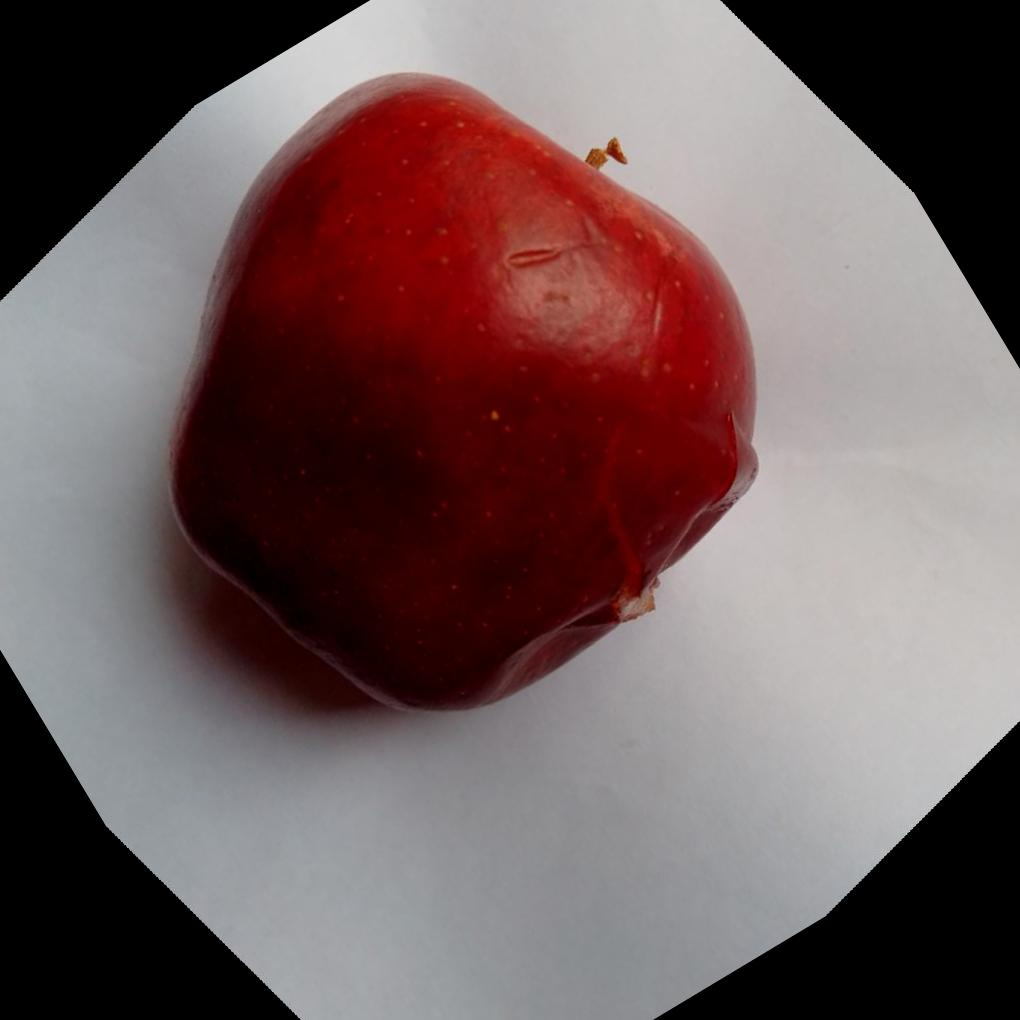FreshOrange: (163, 71, 757, 717)
